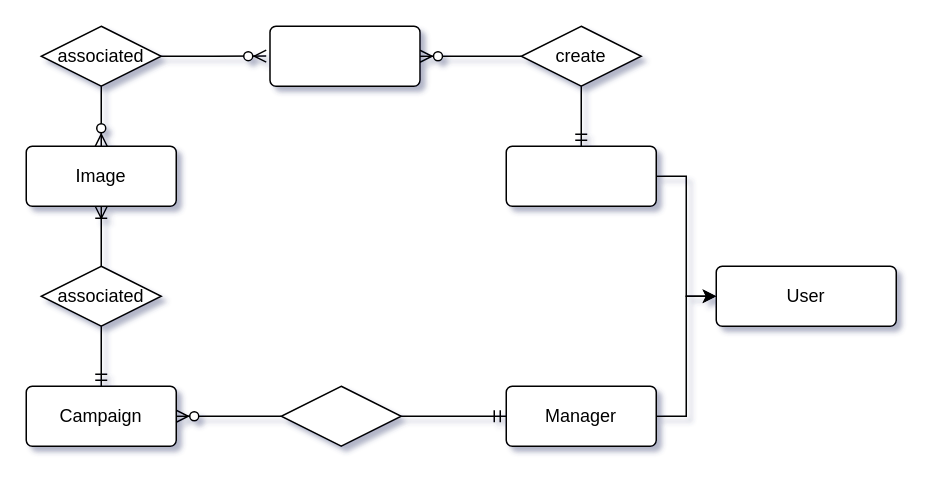
The diagram is 932 pixels wide and 482 high, and some of its shapes have lost their labels. Here are the shapes that lost their labels. From the top down, the box of each, then its label:
(268, 25, 420, 86): Annotation
(505, 145, 656, 206): Worker
(280, 385, 401, 446): Manage
